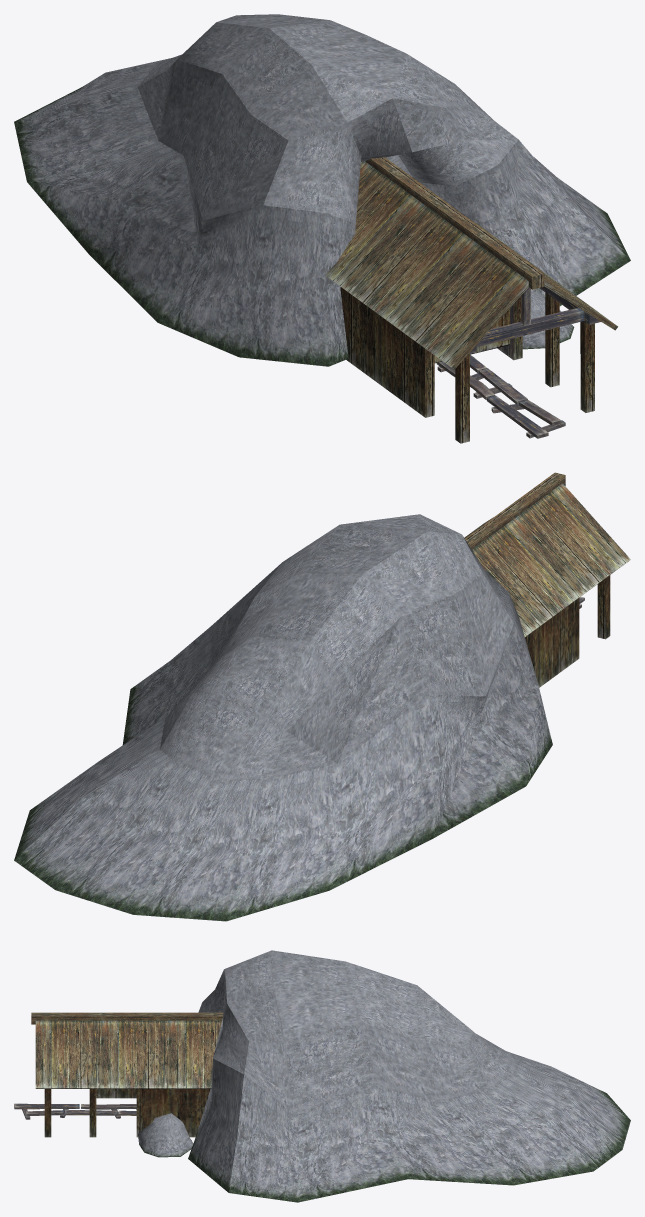
The model's file is m_enter.glb.
3 views of the same model, one above another, from view 1: azimuth 30°, elevation 25°; view 2: azimuth 150°, elevation 25°; view 3: azimuth 270°, elevation 25° (orthographic). The views are drawn at different scales.
Parts seen in each view (by area): view 1: m_enter-col; view 2: m_enter-col; view 3: m_enter-col.
Boxes of the visible parts, box(x1,y1,x2,y2) form: m_enter-col: box(14, 14, 630, 443); m_enter-col: box(14, 472, 630, 921); m_enter-col: box(14, 950, 630, 1202).
Bounding box in the file's own units: 14.72 × 7.57 × 27.46.
Materials: 7 (7 with a texture image).
